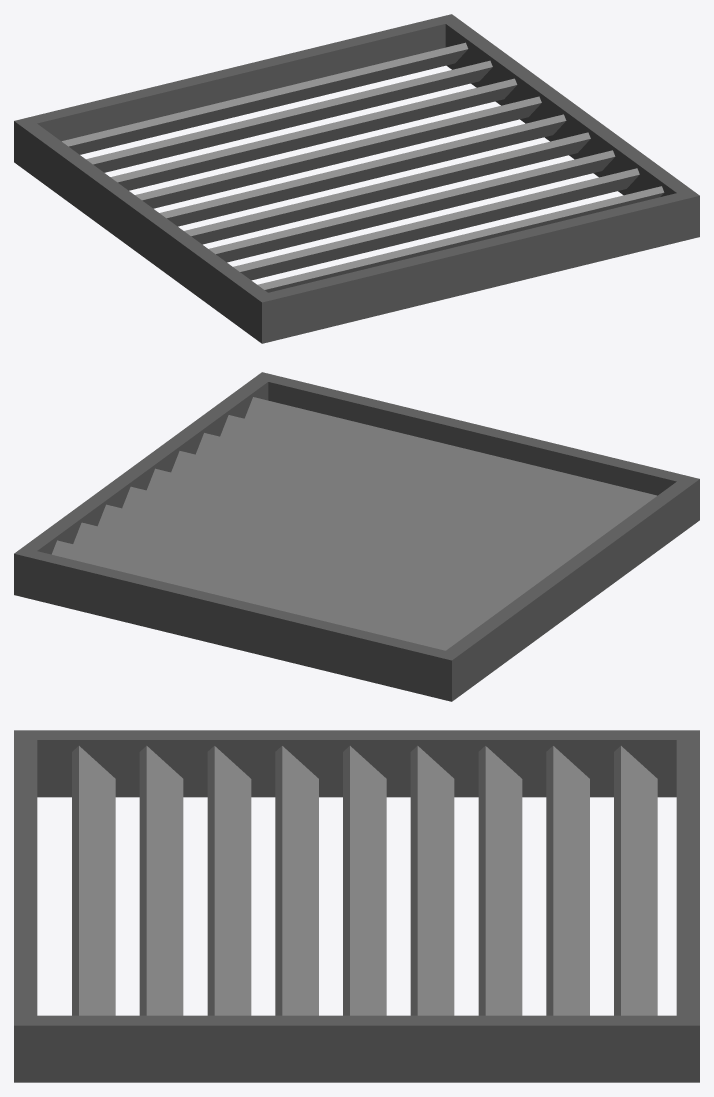
The model's file is Vent.glb.
3 views of the same model, one above another, from view 1: azimuth 30°, elevation 25°; view 2: azimuth 150°, elevation 25°; view 3: azimuth 270°, elevation 25° (orthographic). The views are drawn at different scales.
Parts seen in each view (by area): view 1: Vent; view 2: Vent; view 3: Vent.
Boxes of the visible parts, x1,y1,x2,y2 form: Vent: (14, 14, 699, 343); Vent: (14, 372, 699, 701); Vent: (14, 730, 699, 1082).
Size of the model in its own units: 0.605 by 0.0546 by 0.5937.
1 material, 1 textured.
